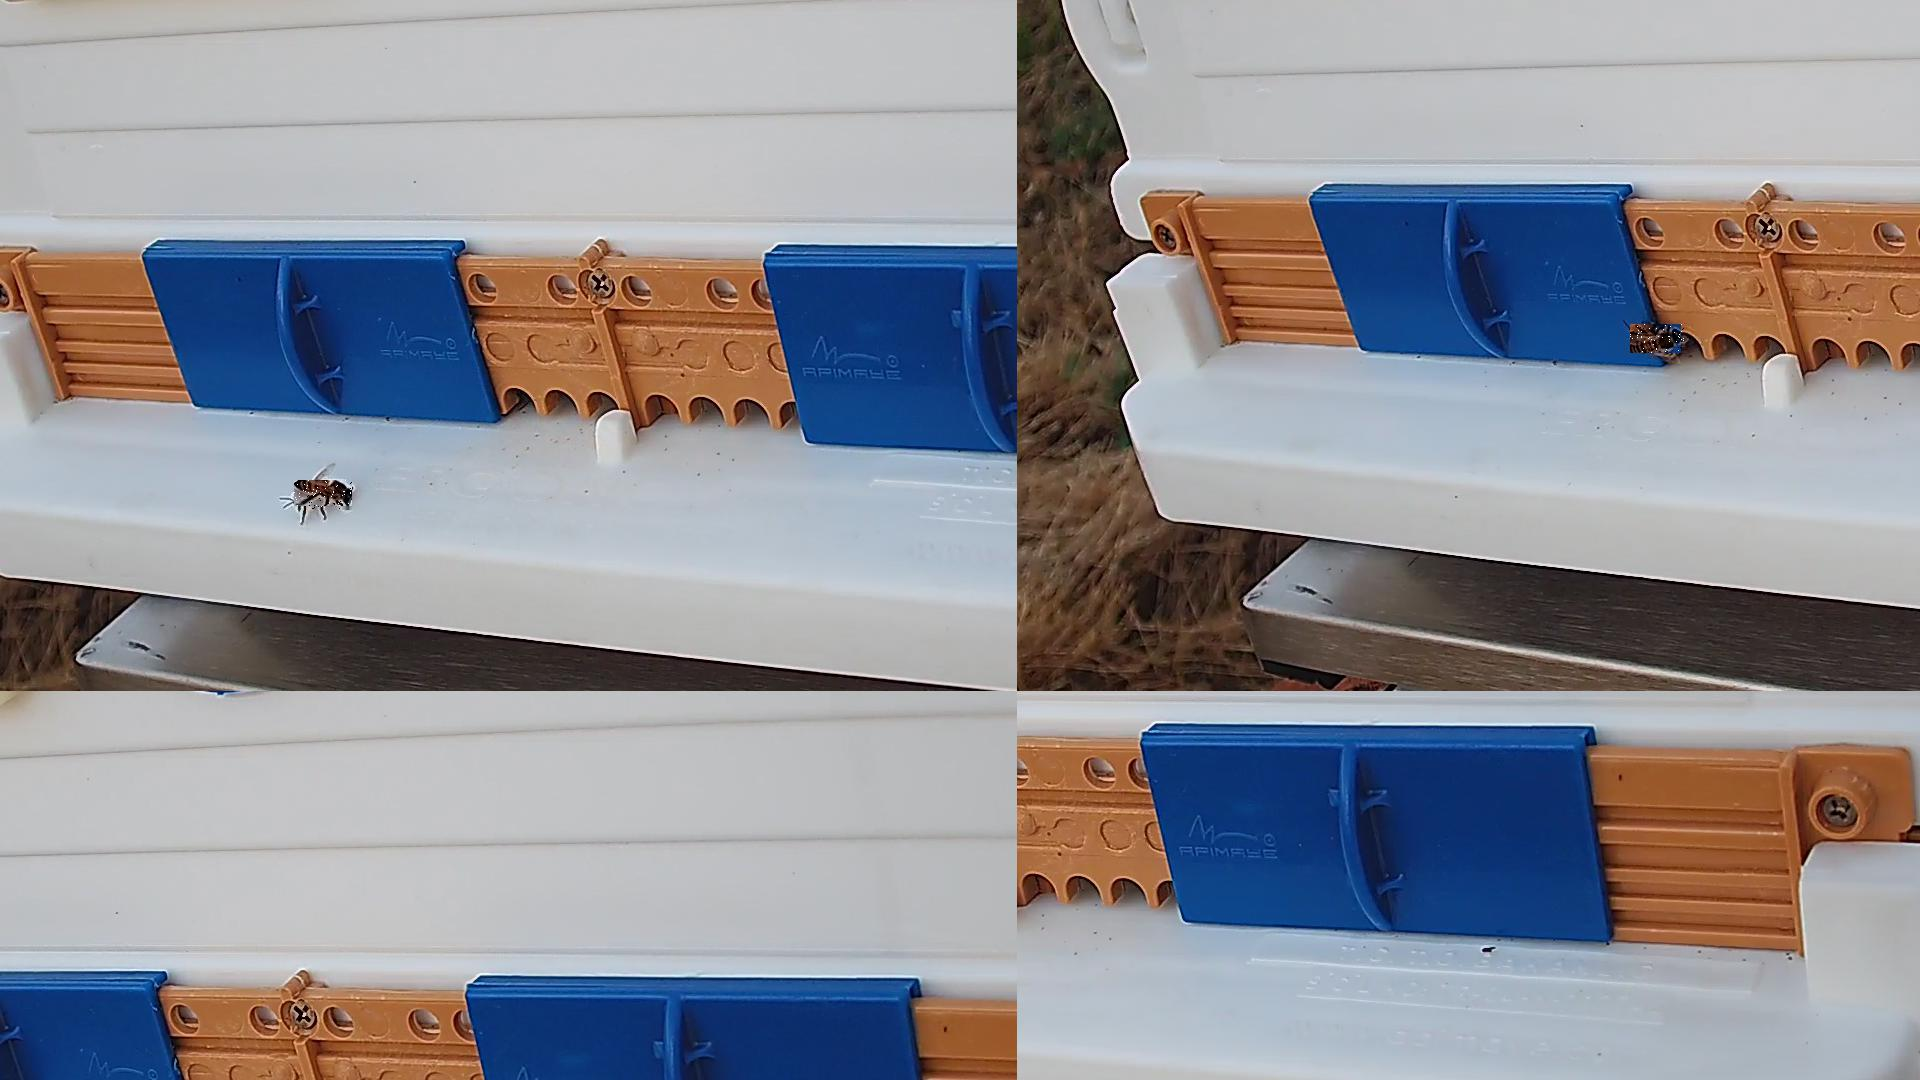bee: (294, 481, 353, 510), (1631, 324, 1687, 355)
